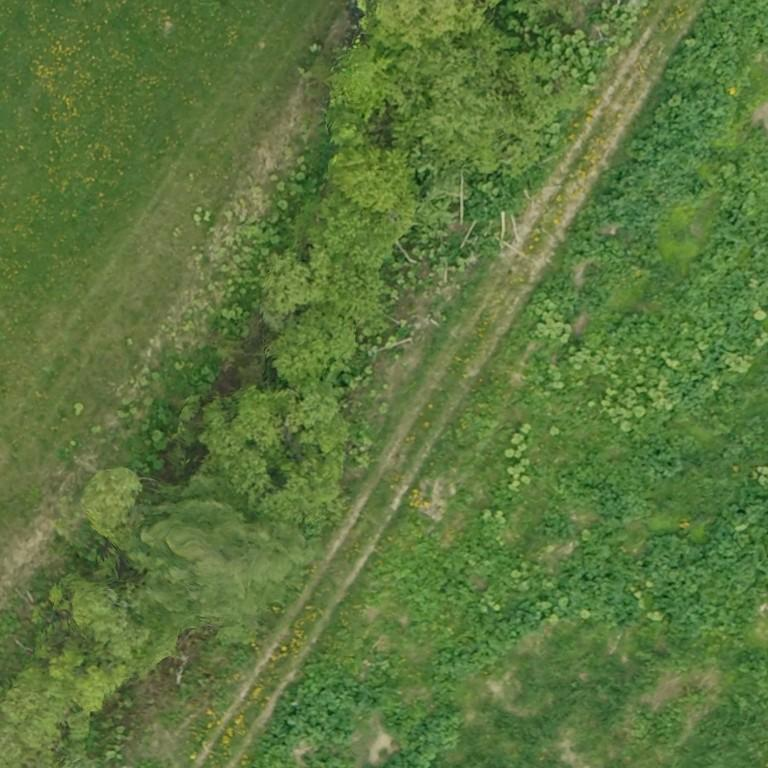hogweed: (564, 0, 767, 306), (598, 127, 767, 359), (561, 485, 767, 638), (383, 603, 536, 767), (264, 664, 381, 766), (555, 468, 650, 525), (468, 168, 540, 220), (669, 347, 721, 407), (648, 436, 694, 475), (539, 511, 575, 537)
